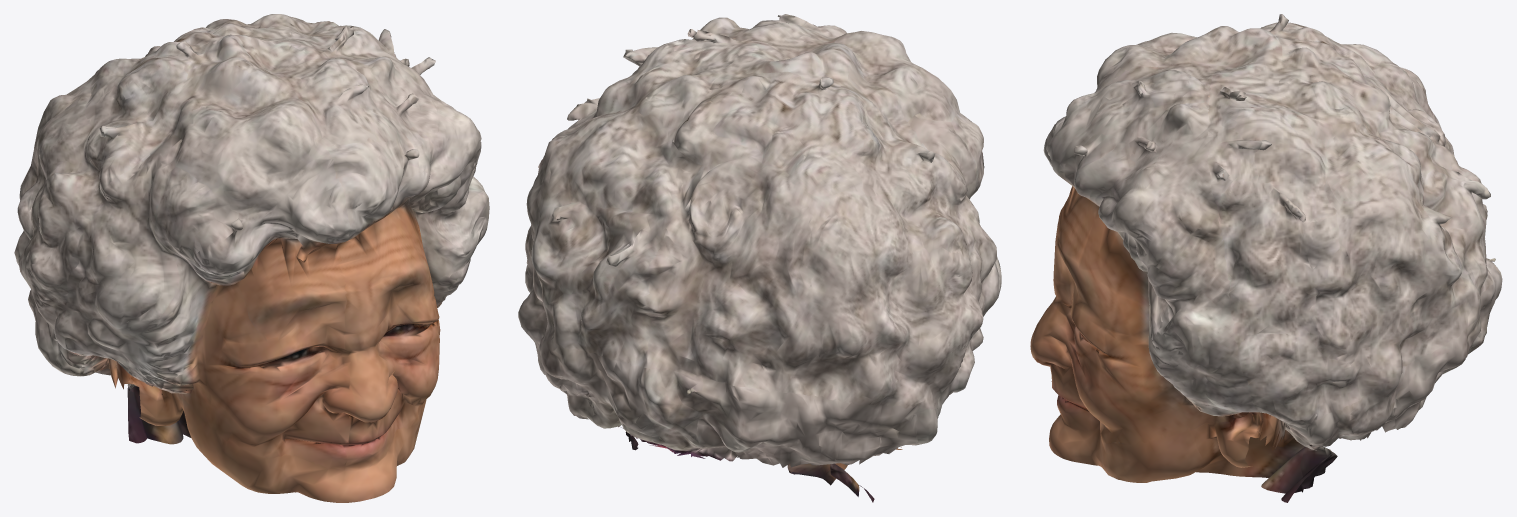
File: patient13.glb
3 renders of one model, left to right at view 1: azimuth 30°, elevation 25°; view 2: azimuth 150°, elevation 25°; view 3: azimuth 270°, elevation 25°, orthographic. The views are drawn at different scales.
Parts seen in each view (by area): view 1: patient13; view 2: patient13; view 3: patient13.
Boxes of the visible parts, box(x1,y1,x2,y2) form: patient13: box(14, 14, 489, 502); patient13: box(518, 14, 1001, 502); patient13: box(1030, 14, 1502, 502).
Size of the model in its own units: 0.3129 by 0.281 by 0.303.
Materials: 1 (1 with a texture image).
